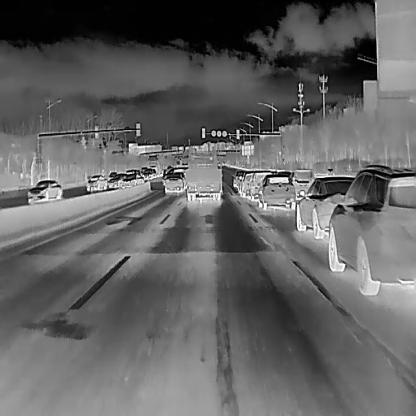car: (326, 162, 416, 296), (293, 172, 355, 238), (258, 172, 296, 212), (25, 179, 64, 202), (247, 170, 273, 202), (290, 168, 316, 199), (160, 166, 188, 184), (119, 172, 144, 188), (164, 172, 184, 192), (86, 173, 107, 191), (240, 171, 254, 198), (106, 172, 128, 188), (140, 168, 156, 180)
truck: (184, 151, 224, 202)
